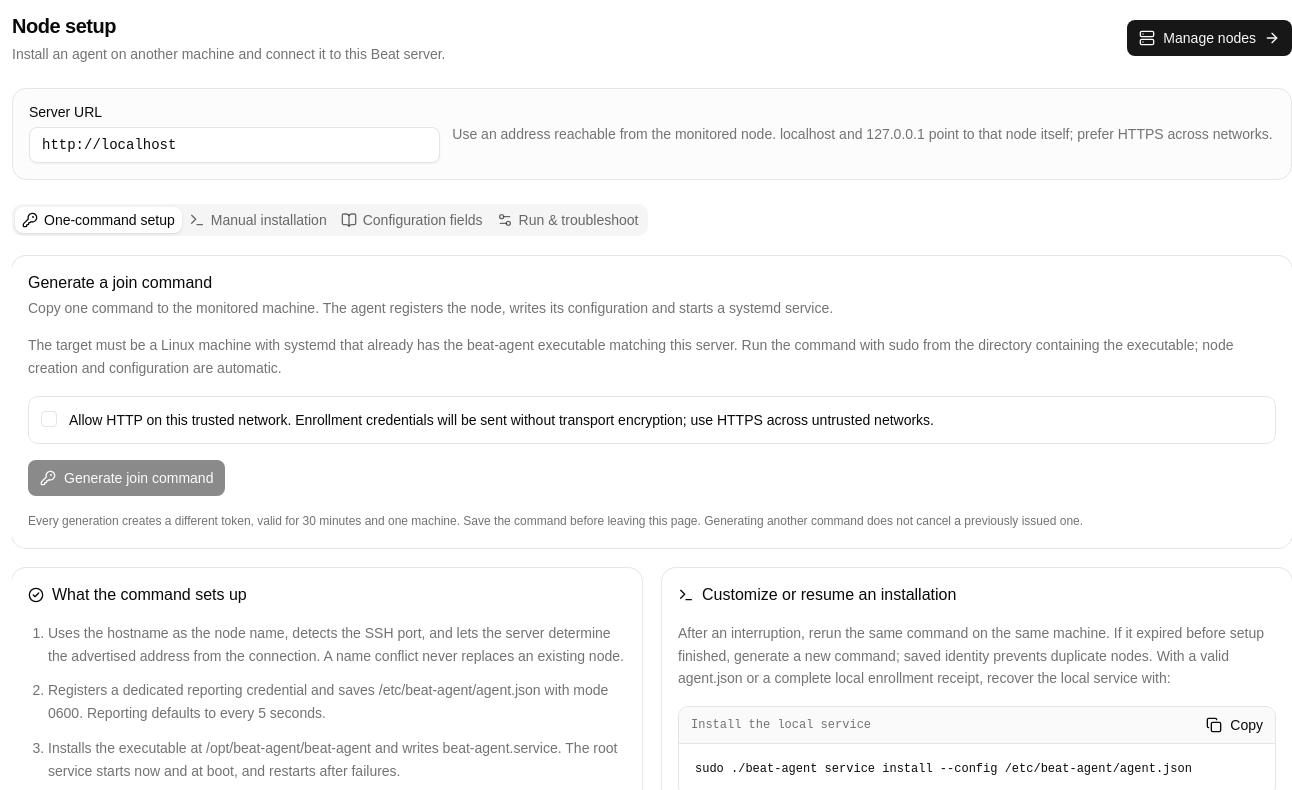
Test case: agent setup guide › provides systemd setup, heartbeat verification, and actionable failures
Click the tab "Manual installation": (258,220) [182,207,334,233]
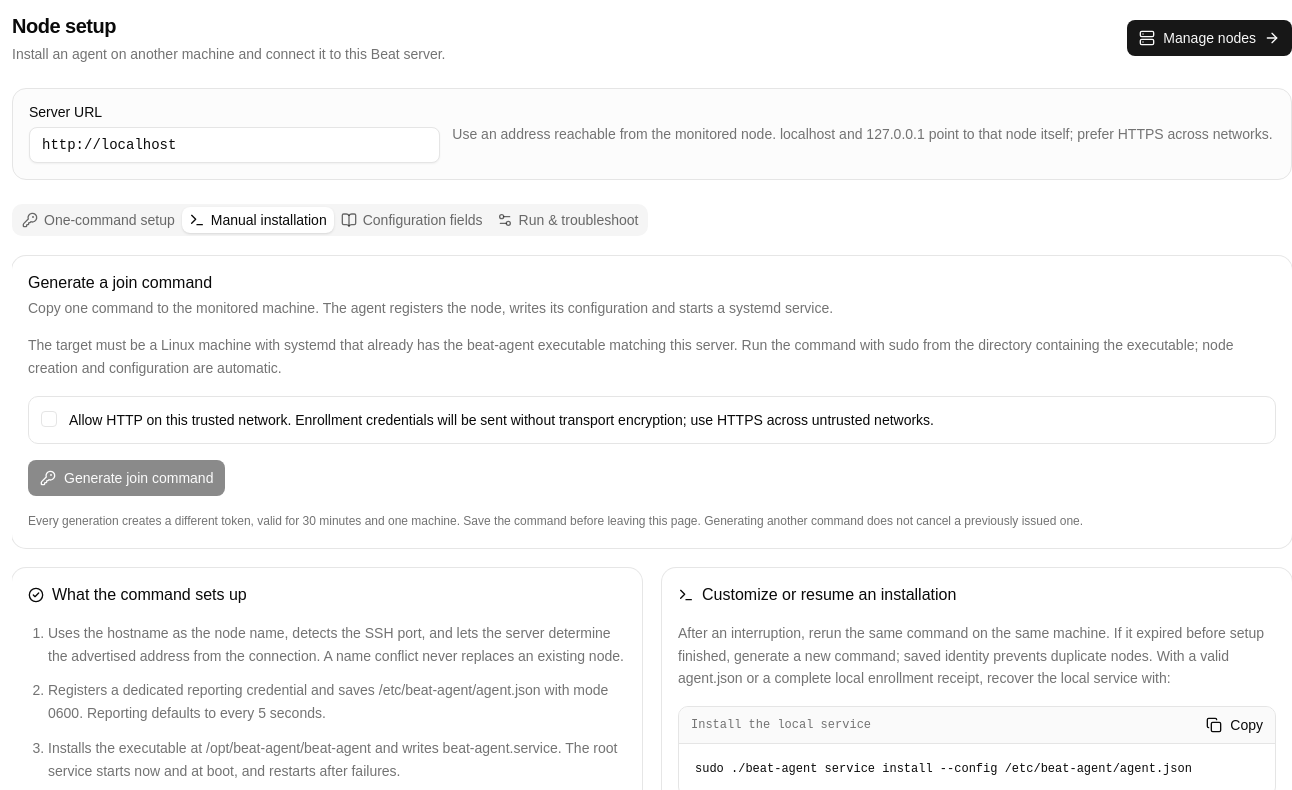
Click the tab "Run & troubleshoot": (568,220) [490,207,646,233]
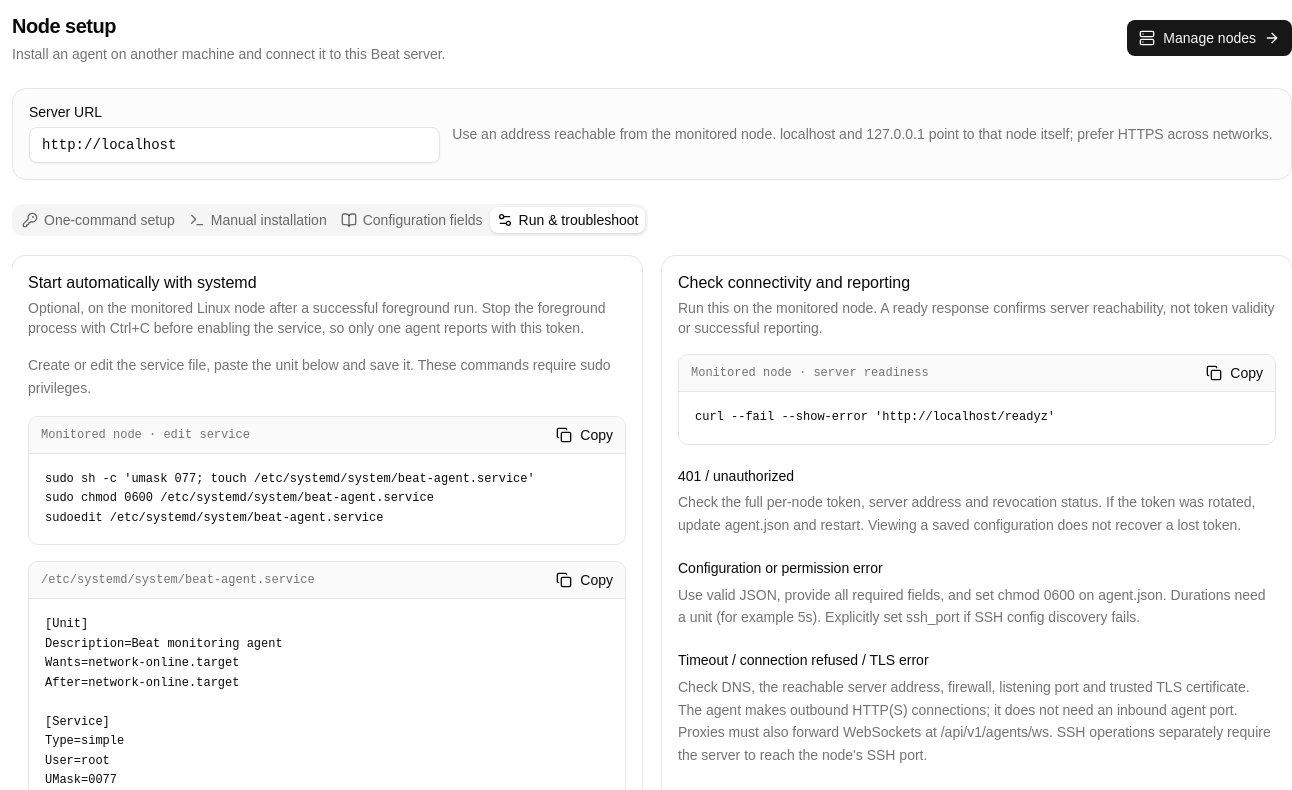
Check: the text "401 / unauthorized" is shown, box [678,468,794,484]
Check: the text "/api/v1/agents/ws" is shown, box [678,679,1271,763]
Check: the text "Stop the foreground process" is shown, box [28,300,606,336]
